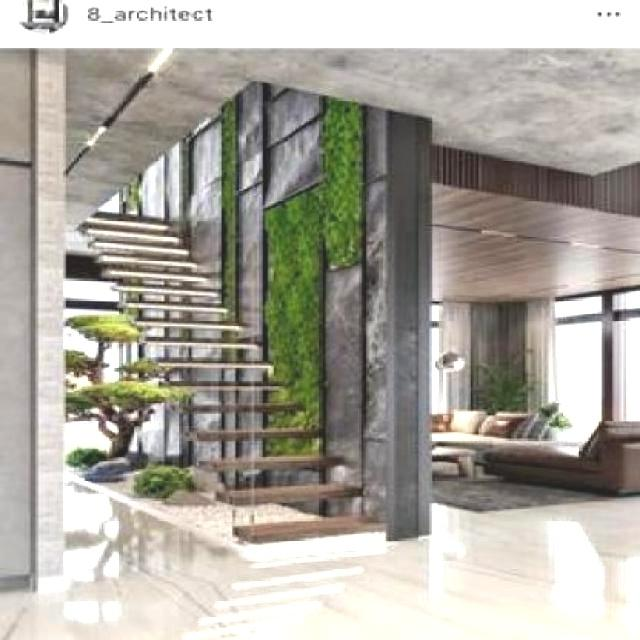stair: (36, 146, 400, 546)
